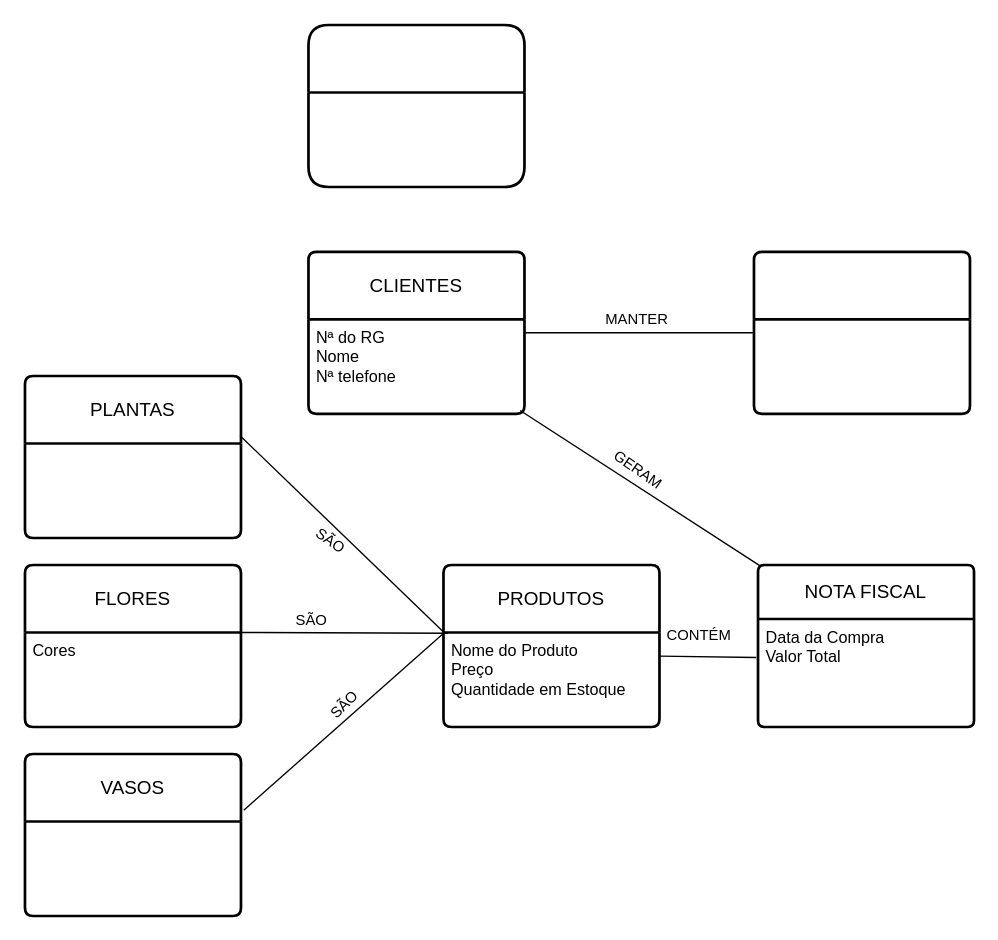
This 998x940 diagram has some shape labels left out. Each missing label, with the centre of its shape:
ENDEREÇOS: (861,332)
FLORICULTURA: (415,105)
